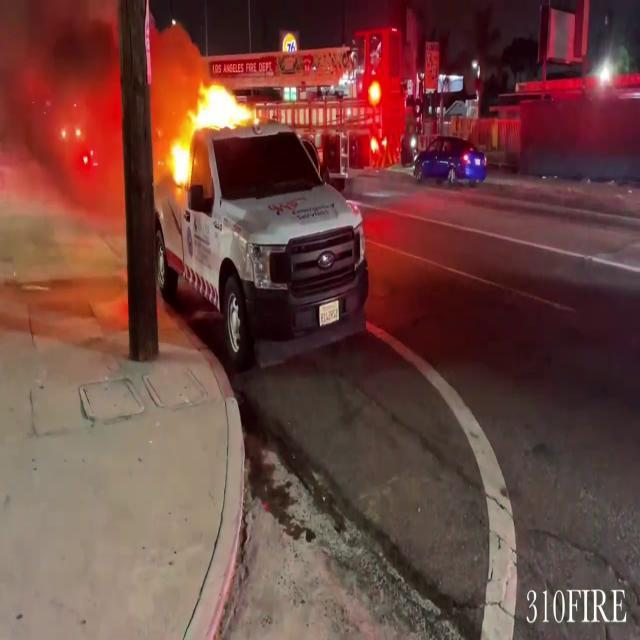Fire: (162, 74, 260, 184)
